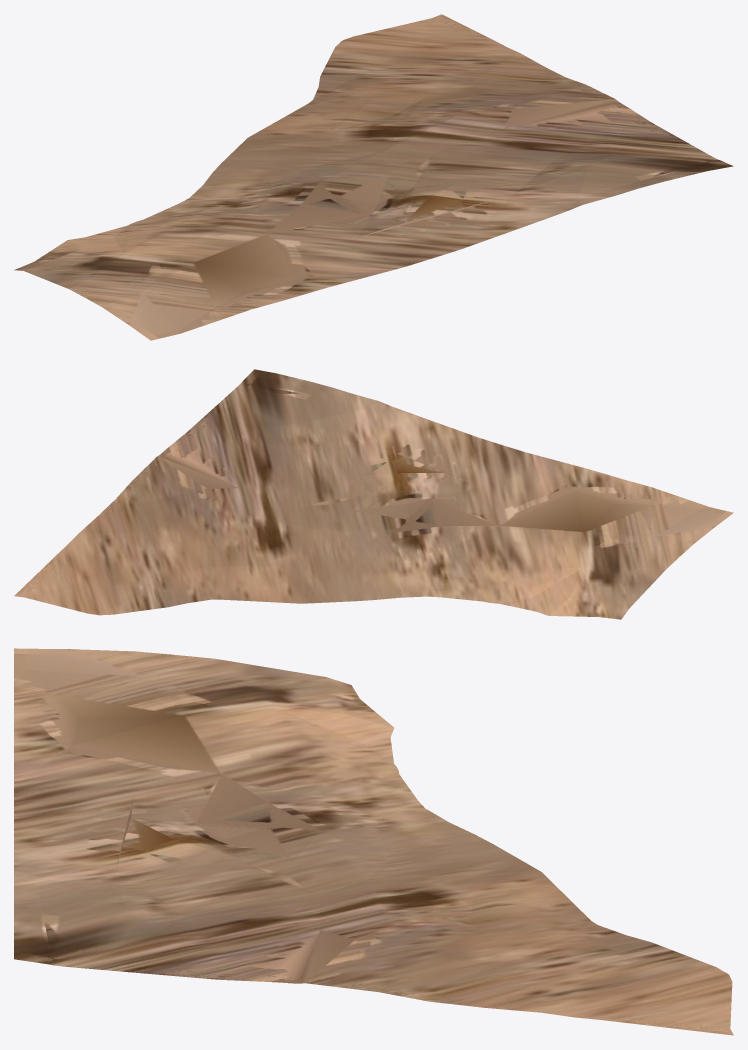
3 views of the same model, one above another, from view 1: azimuth 30°, elevation 25°; view 2: azimuth 150°, elevation 25°; view 3: azimuth 270°, elevation 25° (orthographic). The views are drawn at different scales.
Size of the model in its own units: 2.09 by 0.2176 by 1.81.
Materials: 2 (2 with a texture image).
